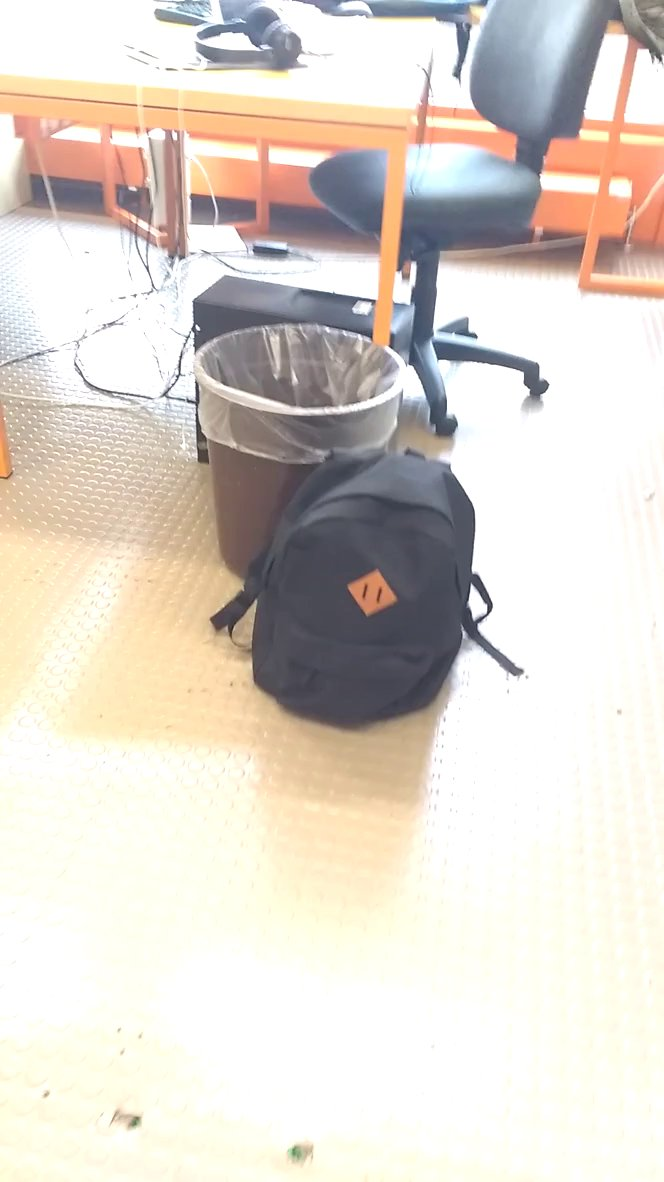bag: (204, 433, 497, 741)
bin: (192, 319, 415, 494)
chair: (296, 2, 620, 447)
